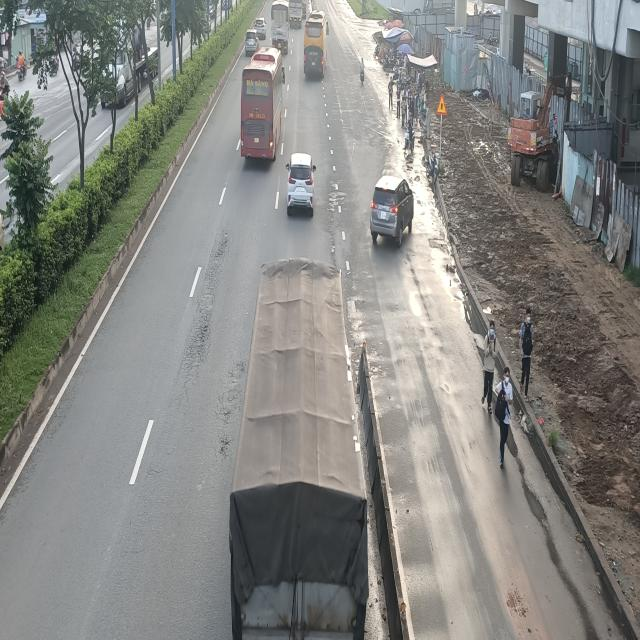car: (368, 177, 414, 248), (284, 155, 316, 221), (254, 16, 266, 39)
coach: (242, 46, 285, 162), (304, 11, 325, 78)
truck: (226, 259, 372, 639), (271, 0, 290, 52)
